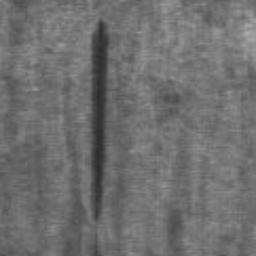Scratches: (91, 18, 109, 224)
